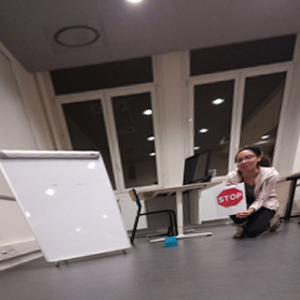big: (1, 150, 132, 262)
small: (165, 236, 177, 247)
